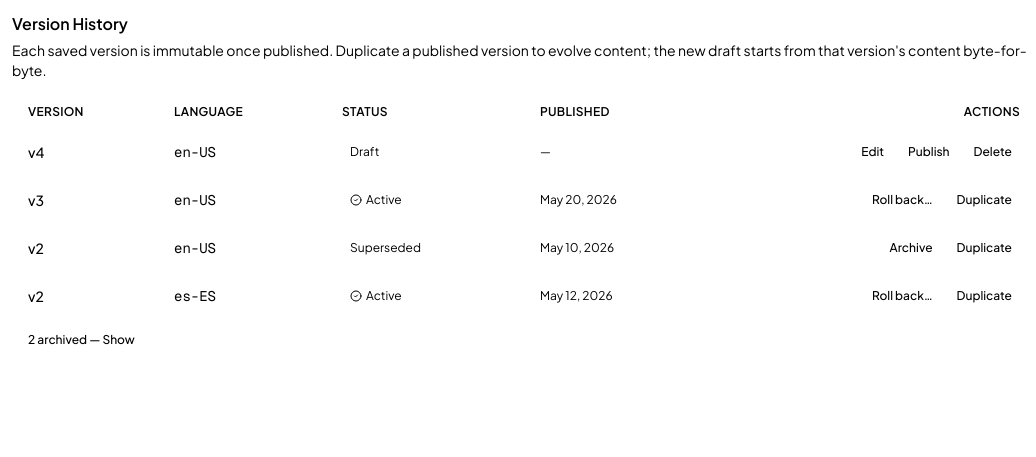
Test case: VersionsTab — Wave ED8 lifecycle table (flag ON) › per-status verbs › Archived row shows Unarchive + Duplicate (once shown)
The width and height of the screenshot is (1036, 457).
Click the button with test id "toggle-archived-versions" at (81, 340), box [28,332,135,348]
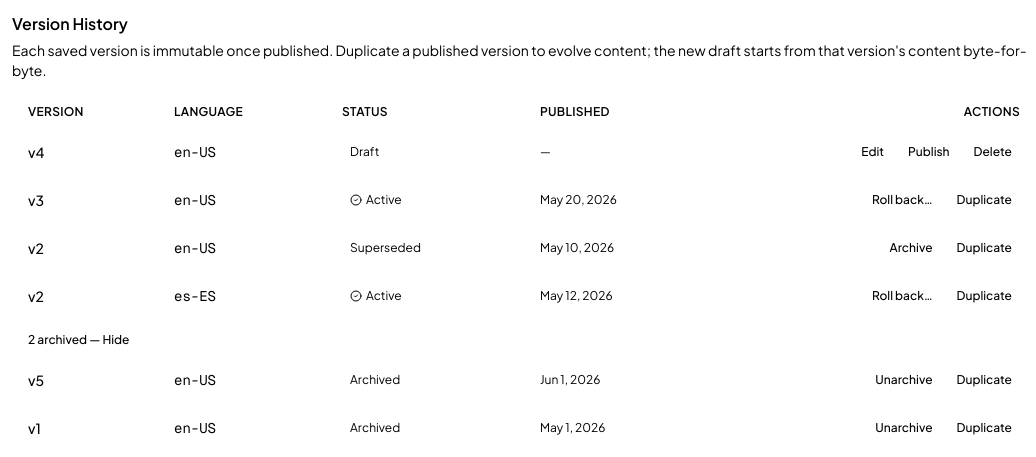
expect the button with test id "unarchive-version-en_v1" is shown: met, box [867,416,940,440]
expect the button with test id "duplicate-version-en_v1" is shown: met, box [948,416,1020,440]
